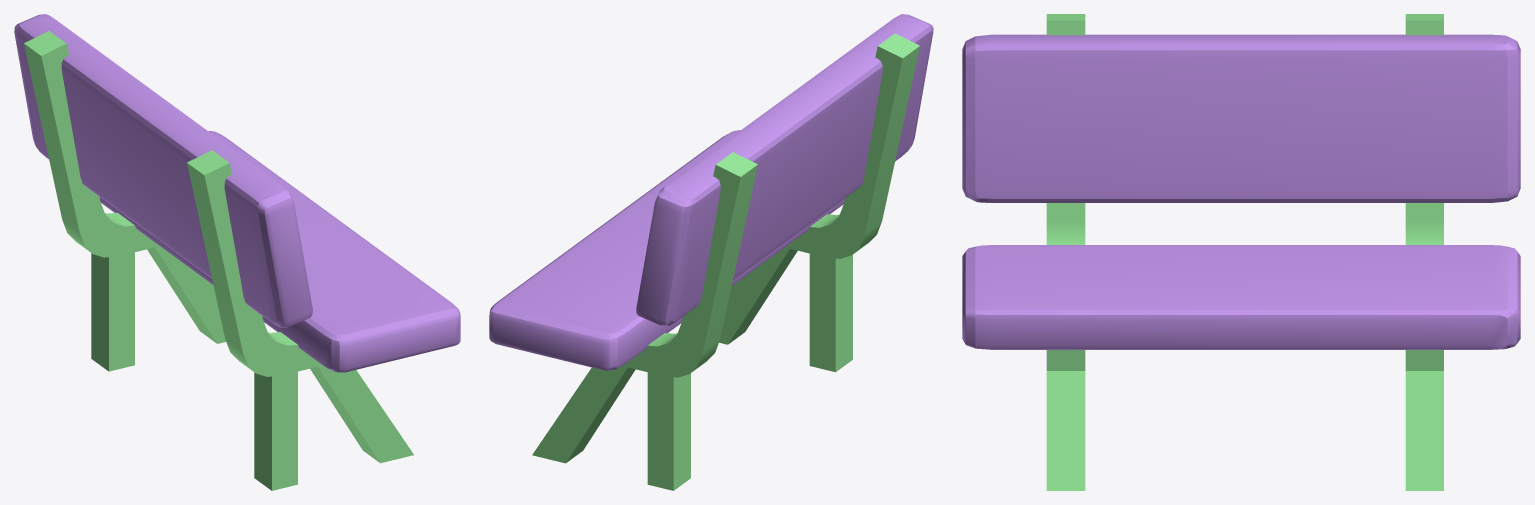
File: Banc.FBX
3 views of the same model, side by side, from view 1: azimuth 30°, elevation 25°; view 2: azimuth 150°, elevation 25°; view 3: azimuth 270°, elevation 25° (orthographic). The views are drawn at different scales.
Visible parts, largest first — view 1: Banc; view 2: Banc; view 3: Banc.
Part boxes in pixels (bbox=[...]): Banc: bbox=[14, 14, 460, 490]; Banc: bbox=[489, 14, 933, 490]; Banc: bbox=[962, 14, 1520, 490].
Size of the model in its own units: 2.73 by 3.93 by 5.33.
